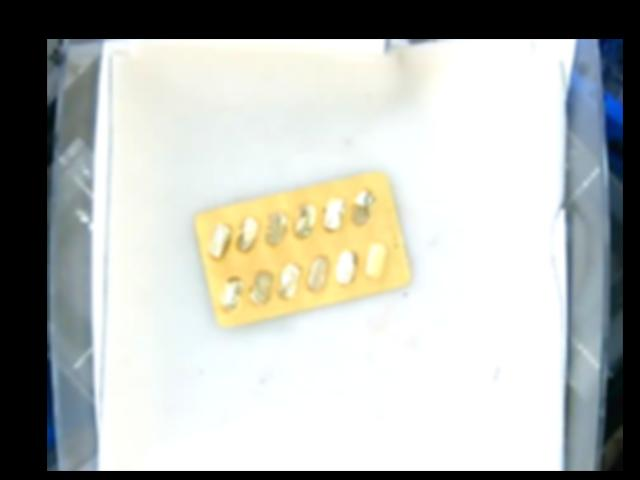Medicine: (195, 171, 410, 325)
